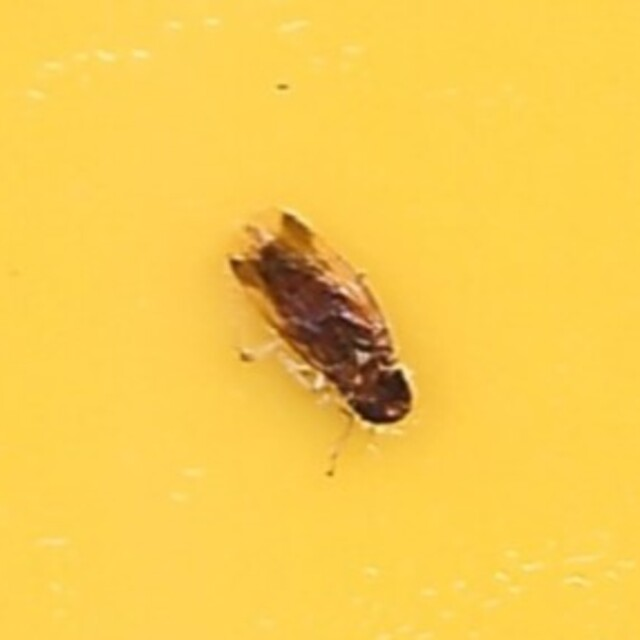Hemiptera: (224, 205, 416, 435)
